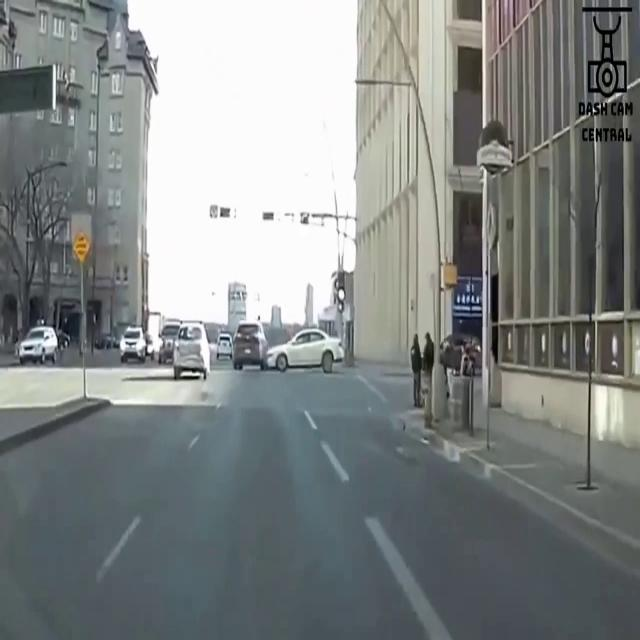accident: (231, 317, 345, 377)
